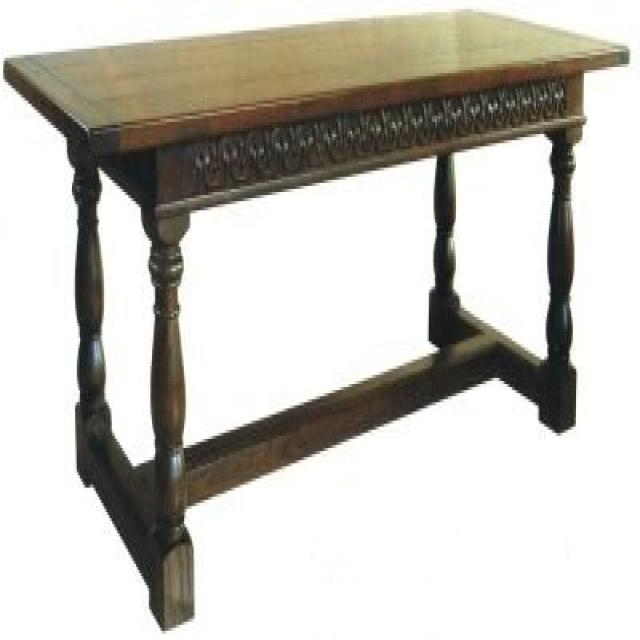table: (4, 9, 618, 630)
